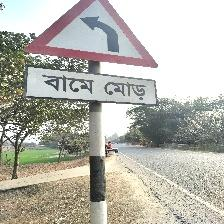Left-Turn: (21, 0, 159, 105)
